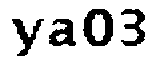0: (84, 4, 114, 51)
3: (119, 6, 147, 50)
a: (47, 16, 77, 49)
y: (8, 16, 45, 58)
